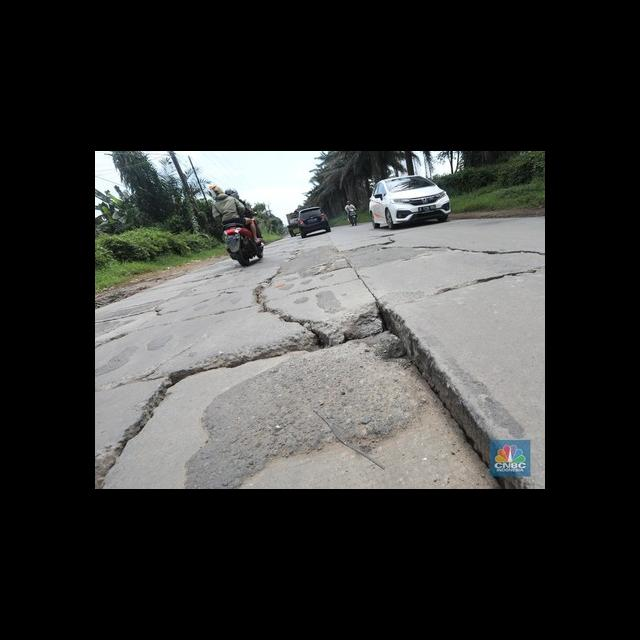retak_memanjang: (101, 304, 433, 391), (239, 265, 334, 349), (391, 239, 545, 272)
